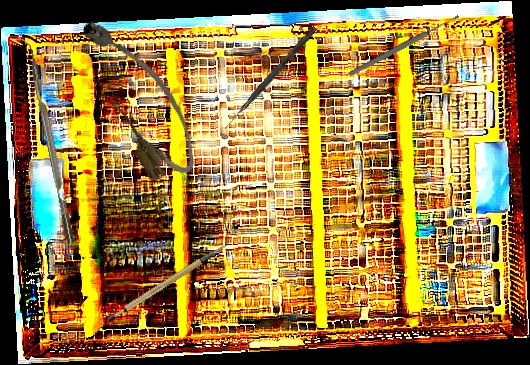Cannula: (69, 1, 210, 191)
Chopper: (16, 32, 75, 246)
Hook Surgical: (222, 24, 318, 133)
Scalpel Handle: (99, 244, 237, 324)
Surgical Spoon: (347, 13, 461, 78)
